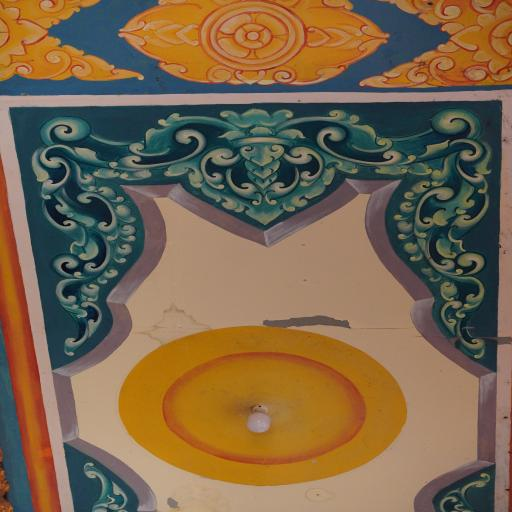hoa: (122, 0, 392, 88), (357, 0, 512, 90), (0, 0, 144, 90)
la: (118, 107, 409, 228), (28, 112, 160, 360), (383, 106, 495, 362), (82, 458, 136, 512), (436, 471, 496, 512)
